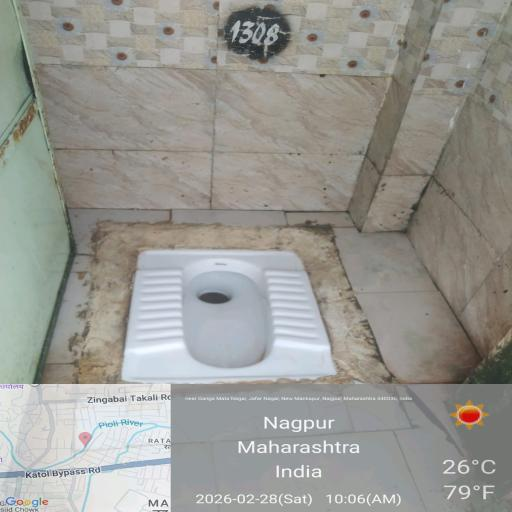clean_floor: (20, 27, 481, 191)
clean_indian: (112, 255, 336, 395)
partial_dirty_floor: (18, 227, 512, 512)
